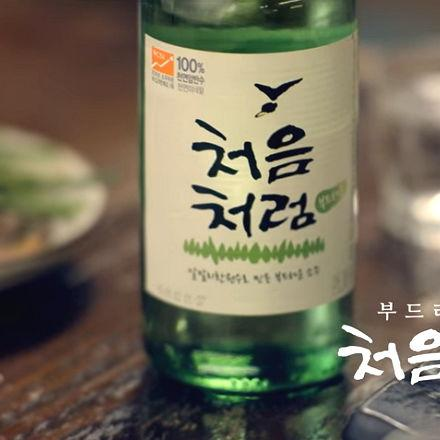soju: (130, 3, 369, 401)
